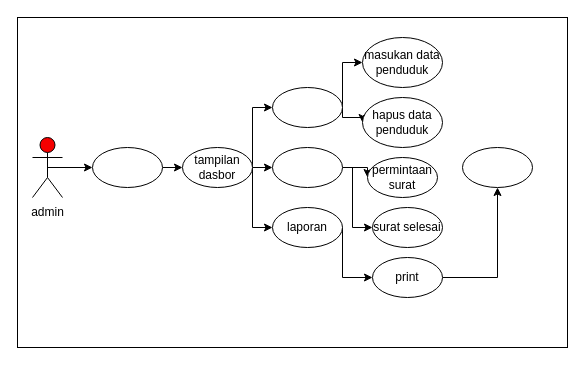
The diagram is 585 pixels wide and 365 high, and some of its shapes have lost their labels. The shapes that lost their labels are listed below. From the top down, each one's centre as x and y in pixels, then its label:
the point at 307,107: kelola data penduduk
the point at 127,167: login
the point at 307,167: kelola surat
the point at 497,167: logout
